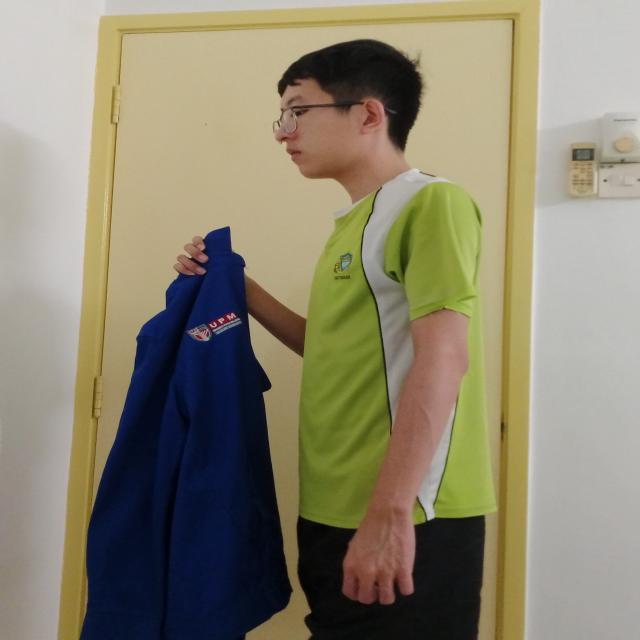person_without_labcoat: (80, 39, 495, 640)
